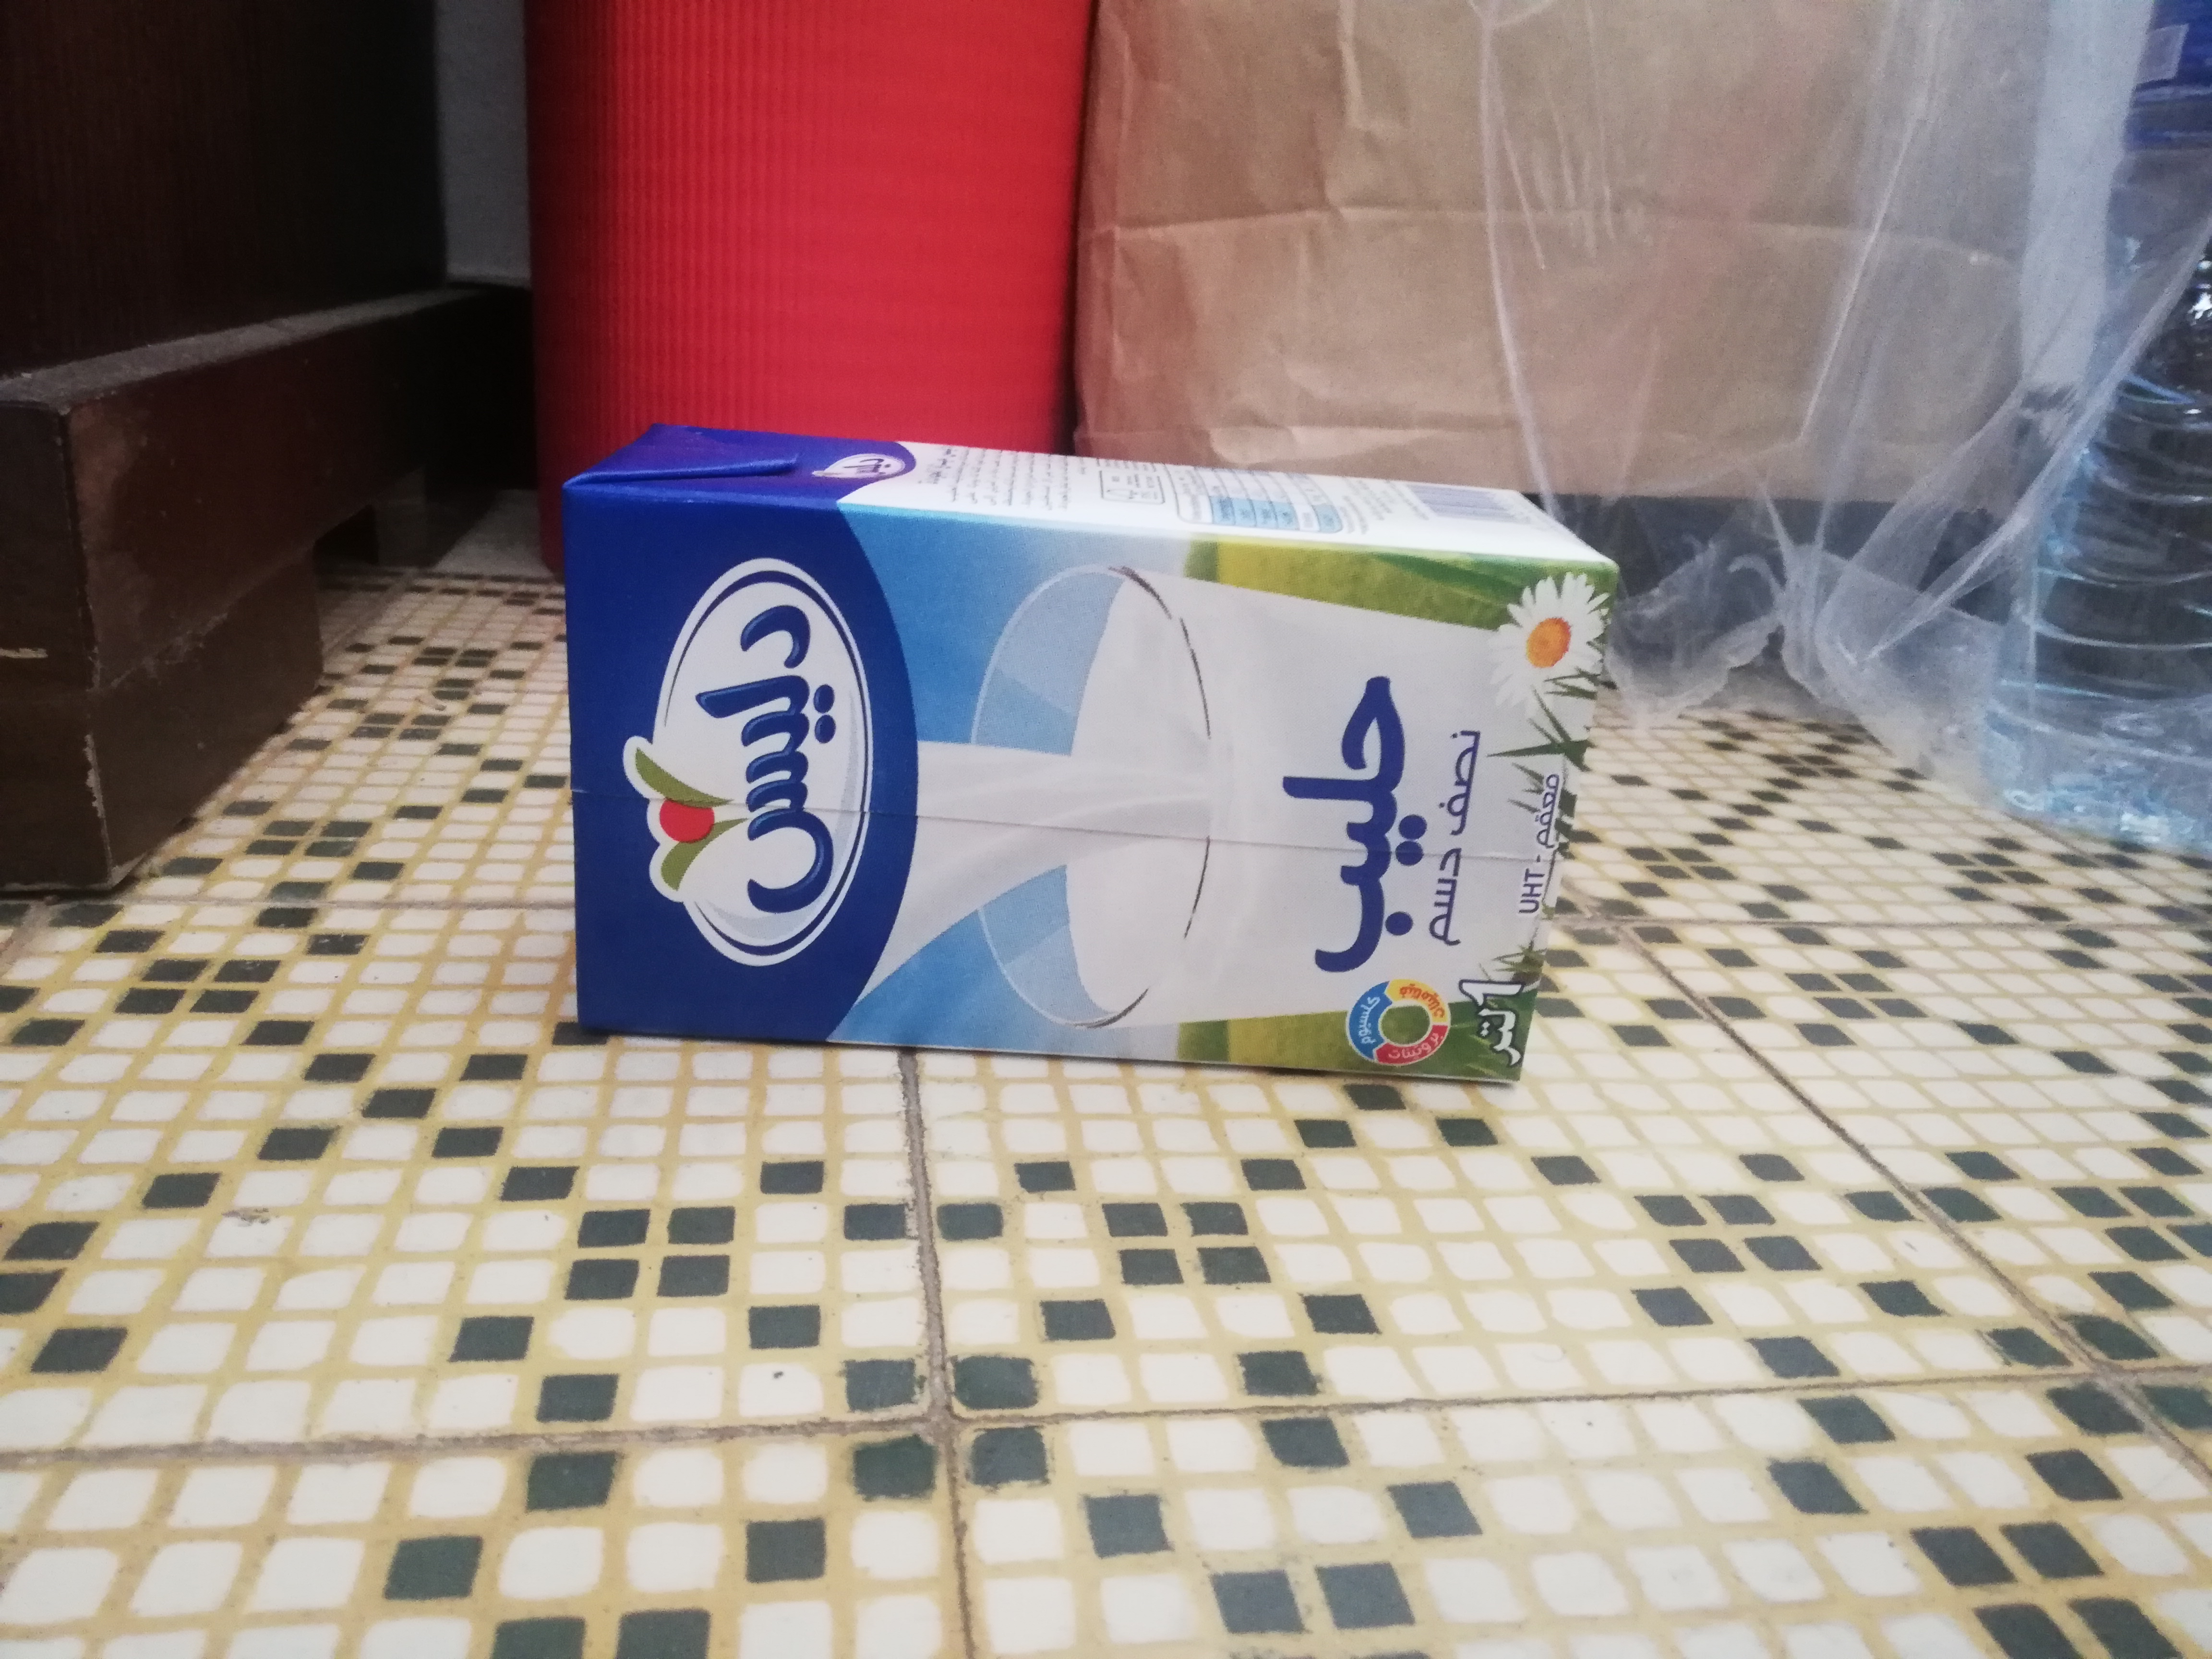Lait delice: (563, 416, 1622, 1087)
